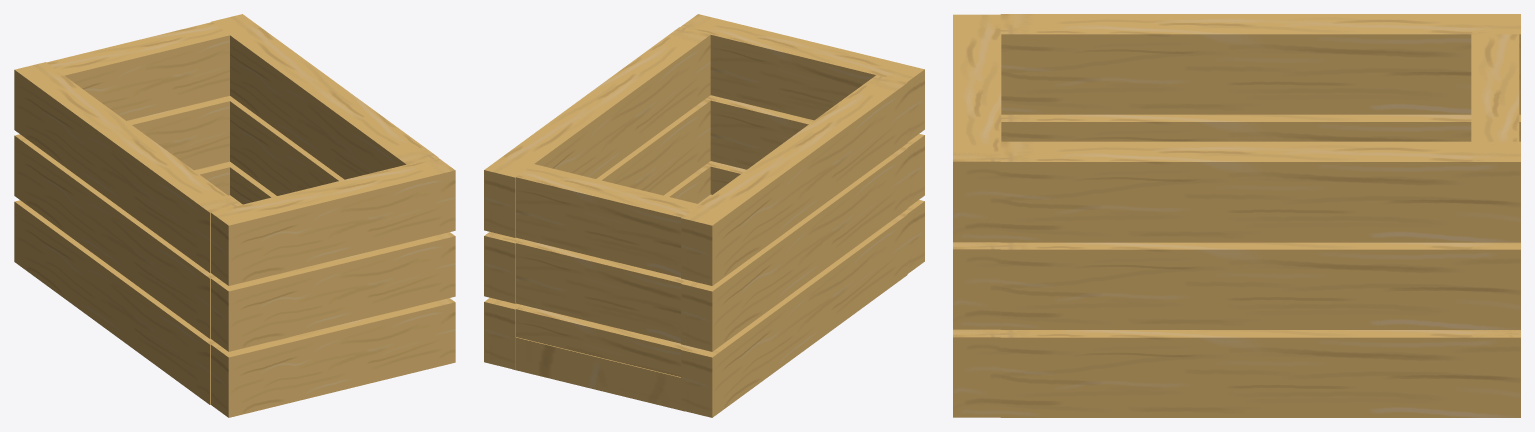
The model's file is Caja2.0.fbx.
3 renders of one model, left to right at view 1: azimuth 30°, elevation 25°; view 2: azimuth 150°, elevation 25°; view 3: azimuth 270°, elevation 25°, orthographic. The views are drawn at different scales.
Visible parts, largest first — view 1: Cube.001; view 2: Cube.001; view 3: Cube.001.
Part boxes in pixels (box(x1,y1,x2,y2)): Cube.001: box(14, 14, 455, 417); Cube.001: box(484, 14, 924, 417); Cube.001: box(953, 14, 1520, 417).
Size of the model in its own units: 260 by 210 by 421.
